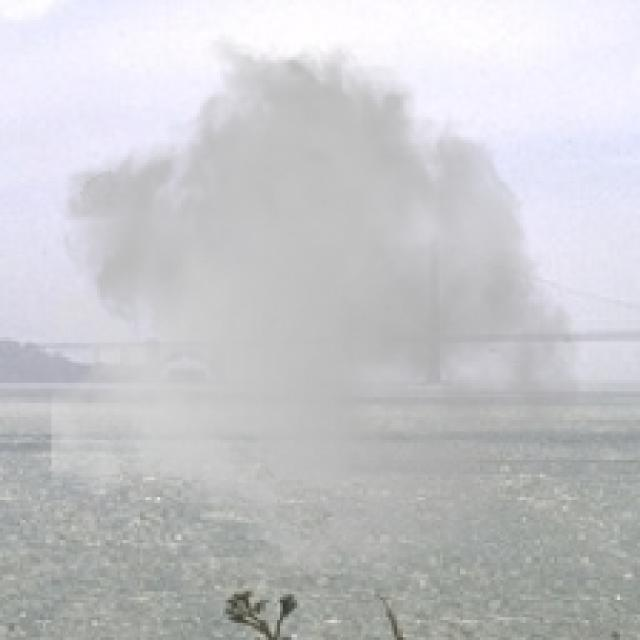Smoke: (51, 32, 583, 594)
